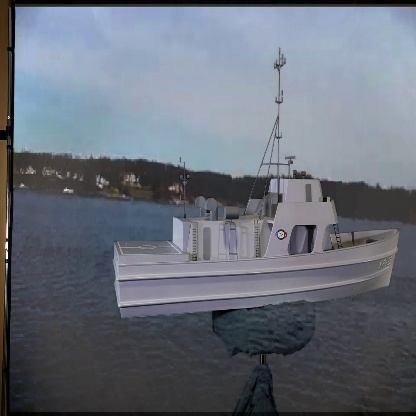YP689: (112, 45, 401, 320)
